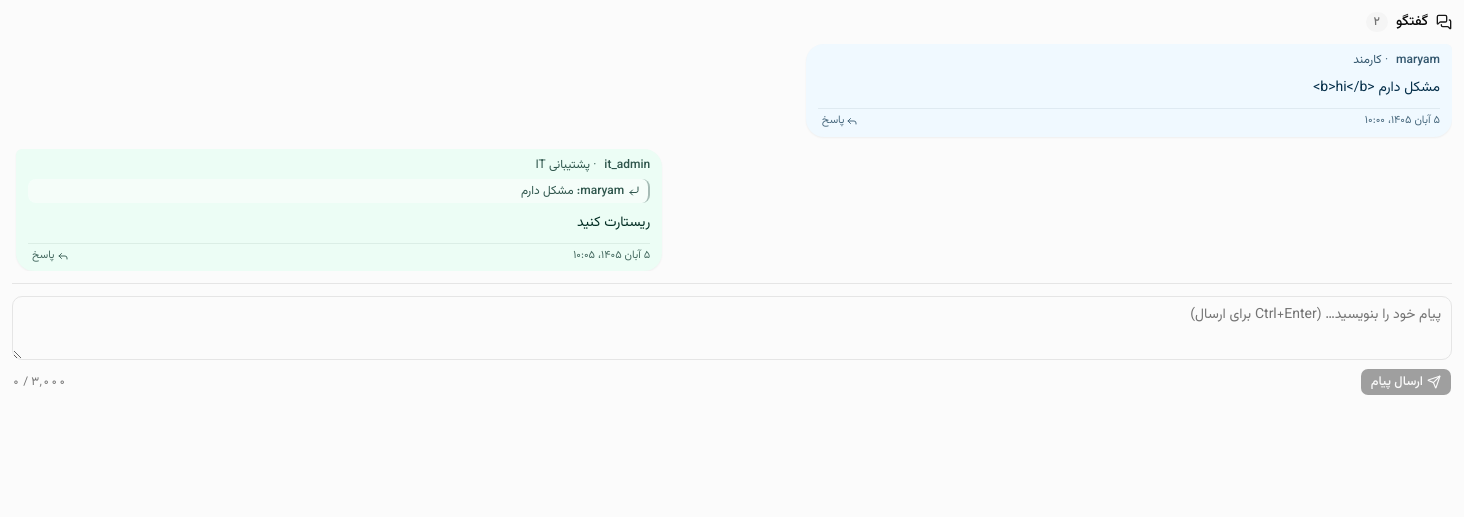
Test: TicketThread › renders messages as text with quoted parent and posts a reply-to
expect the number of elements with test id "thread-message" is 2: met, box [806, 44, 1452, 137]; [16, 149, 662, 271]
expect the element with test id "quoted-parent" shows "مشکل دارم": met, box [521, 182, 574, 200]
Click the button with aria-label "پاسخ به پیام it_admin".
click(50, 256)  # box [28, 248, 73, 263]
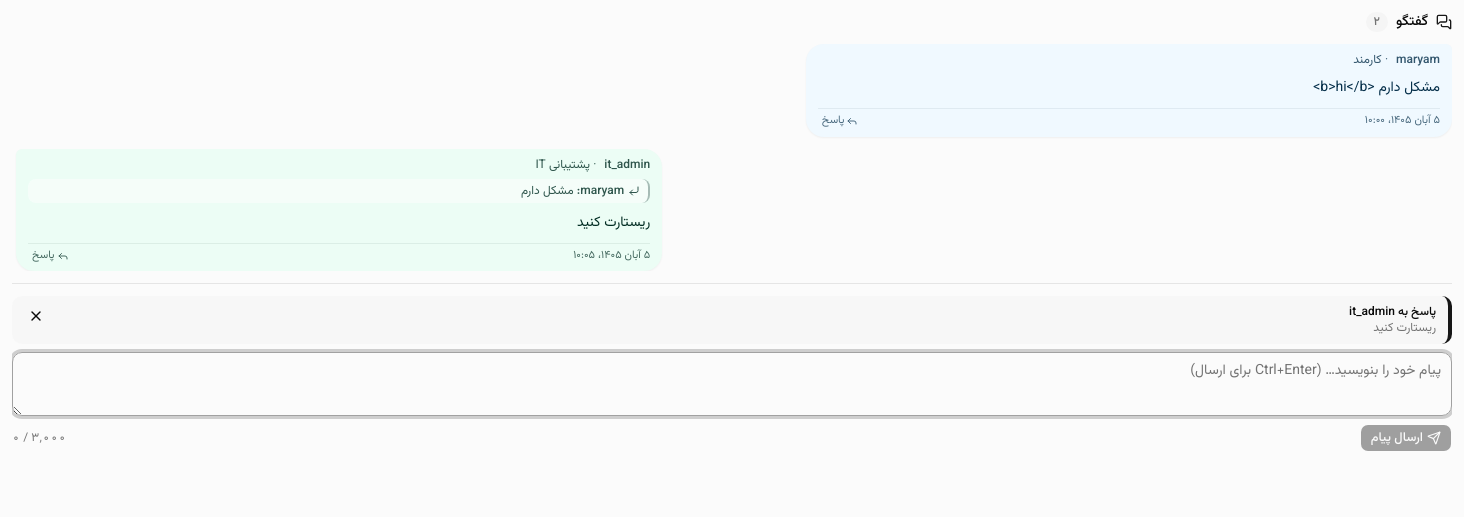
expect the element with test id "reply-chip" is shown: met, box [12, 296, 1452, 344]
Type "انجام دادم" into the text box named "متن پیام".
click(732, 384); type("انجام دادم")  # box [12, 352, 1452, 416]
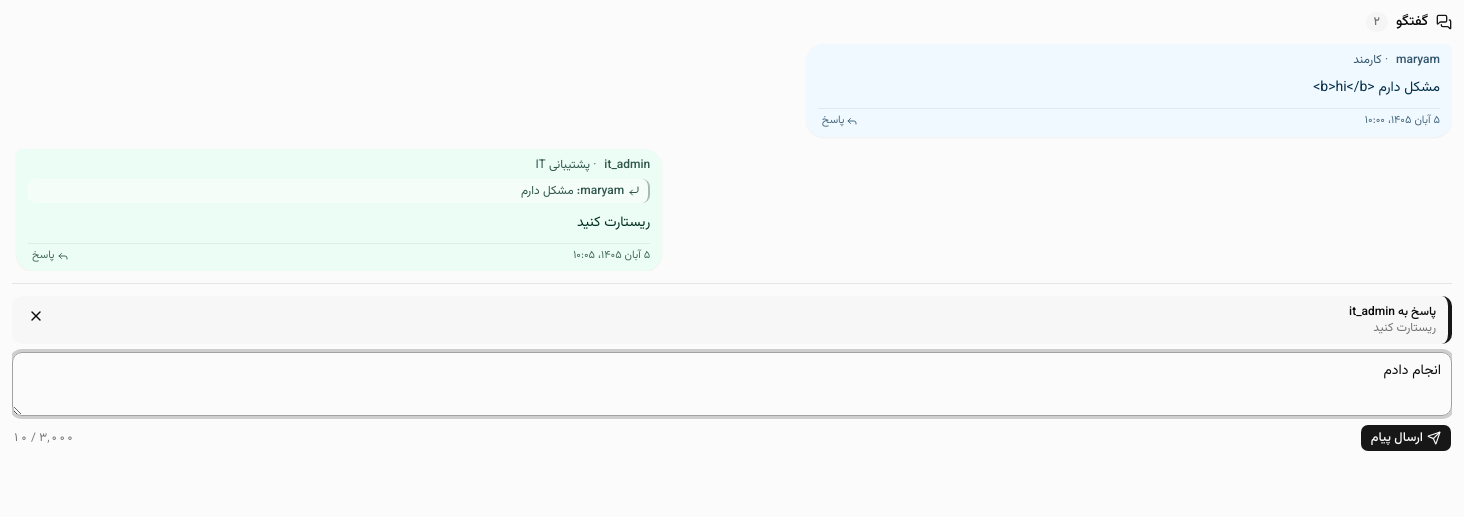
Click the button "ارسال پیام".
click(1406, 438)  # box [1360, 424, 1452, 452]
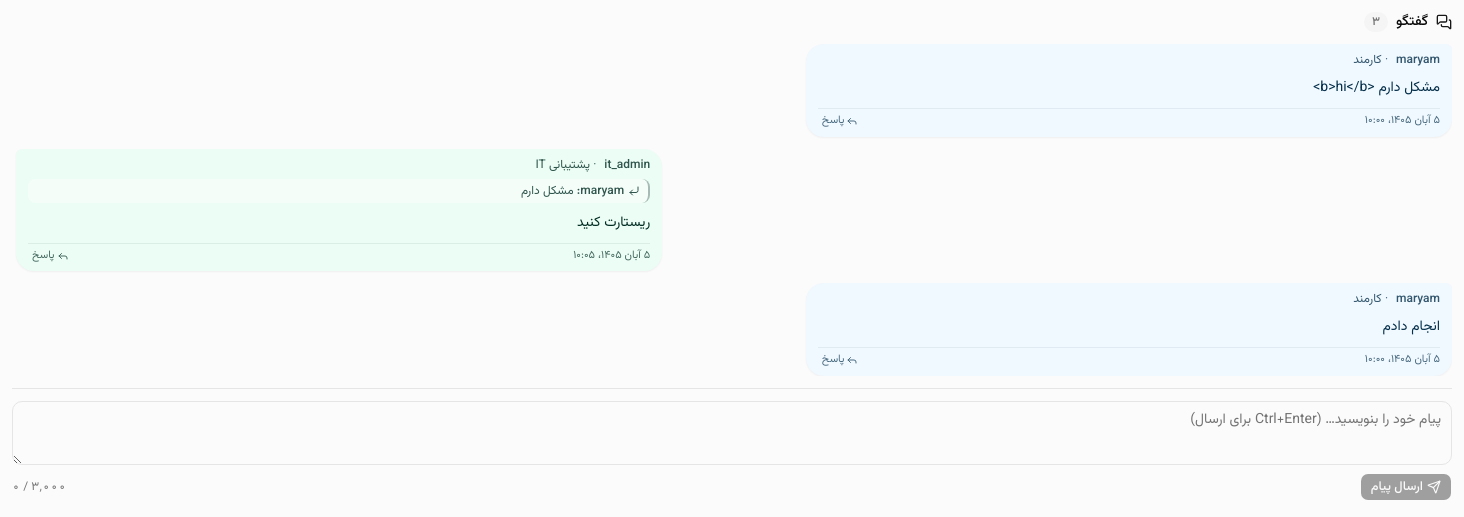
expect the 1st text "maryam" is shown: met, box [1396, 52, 1440, 68]
expect the number of elements with test id "thread-message" is 3: met, box [806, 44, 1452, 137]; [16, 149, 662, 271]; [806, 283, 1452, 376]
